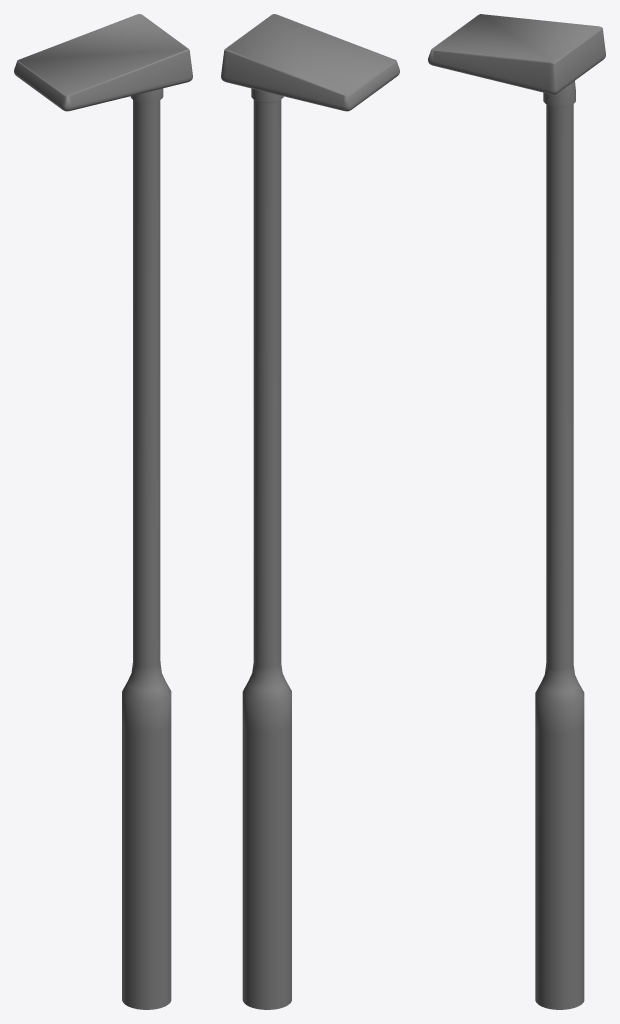
The model's file is StreetLight2.FBX.
The picture shows the model from 3 angles, left to right: view 1: azimuth 30°, elevation 25°; view 2: azimuth 150°, elevation 25°; view 3: azimuth 330°, elevation 25°; orthographic projection.
Parts seen in each view (by area): view 1: Box001; view 2: Box001; view 3: Box001.
Boxes of the visible parts, x1=… form: Box001: x1=14, y1=14, x2=192, y2=1009; Box001: x1=221, y1=14, x2=399, y2=1009; Box001: x1=428, y1=14, x2=605, y2=1009.
Size of the model in its own units: 35.08 by 248 by 24.58.
2 materials, 2 textured.
